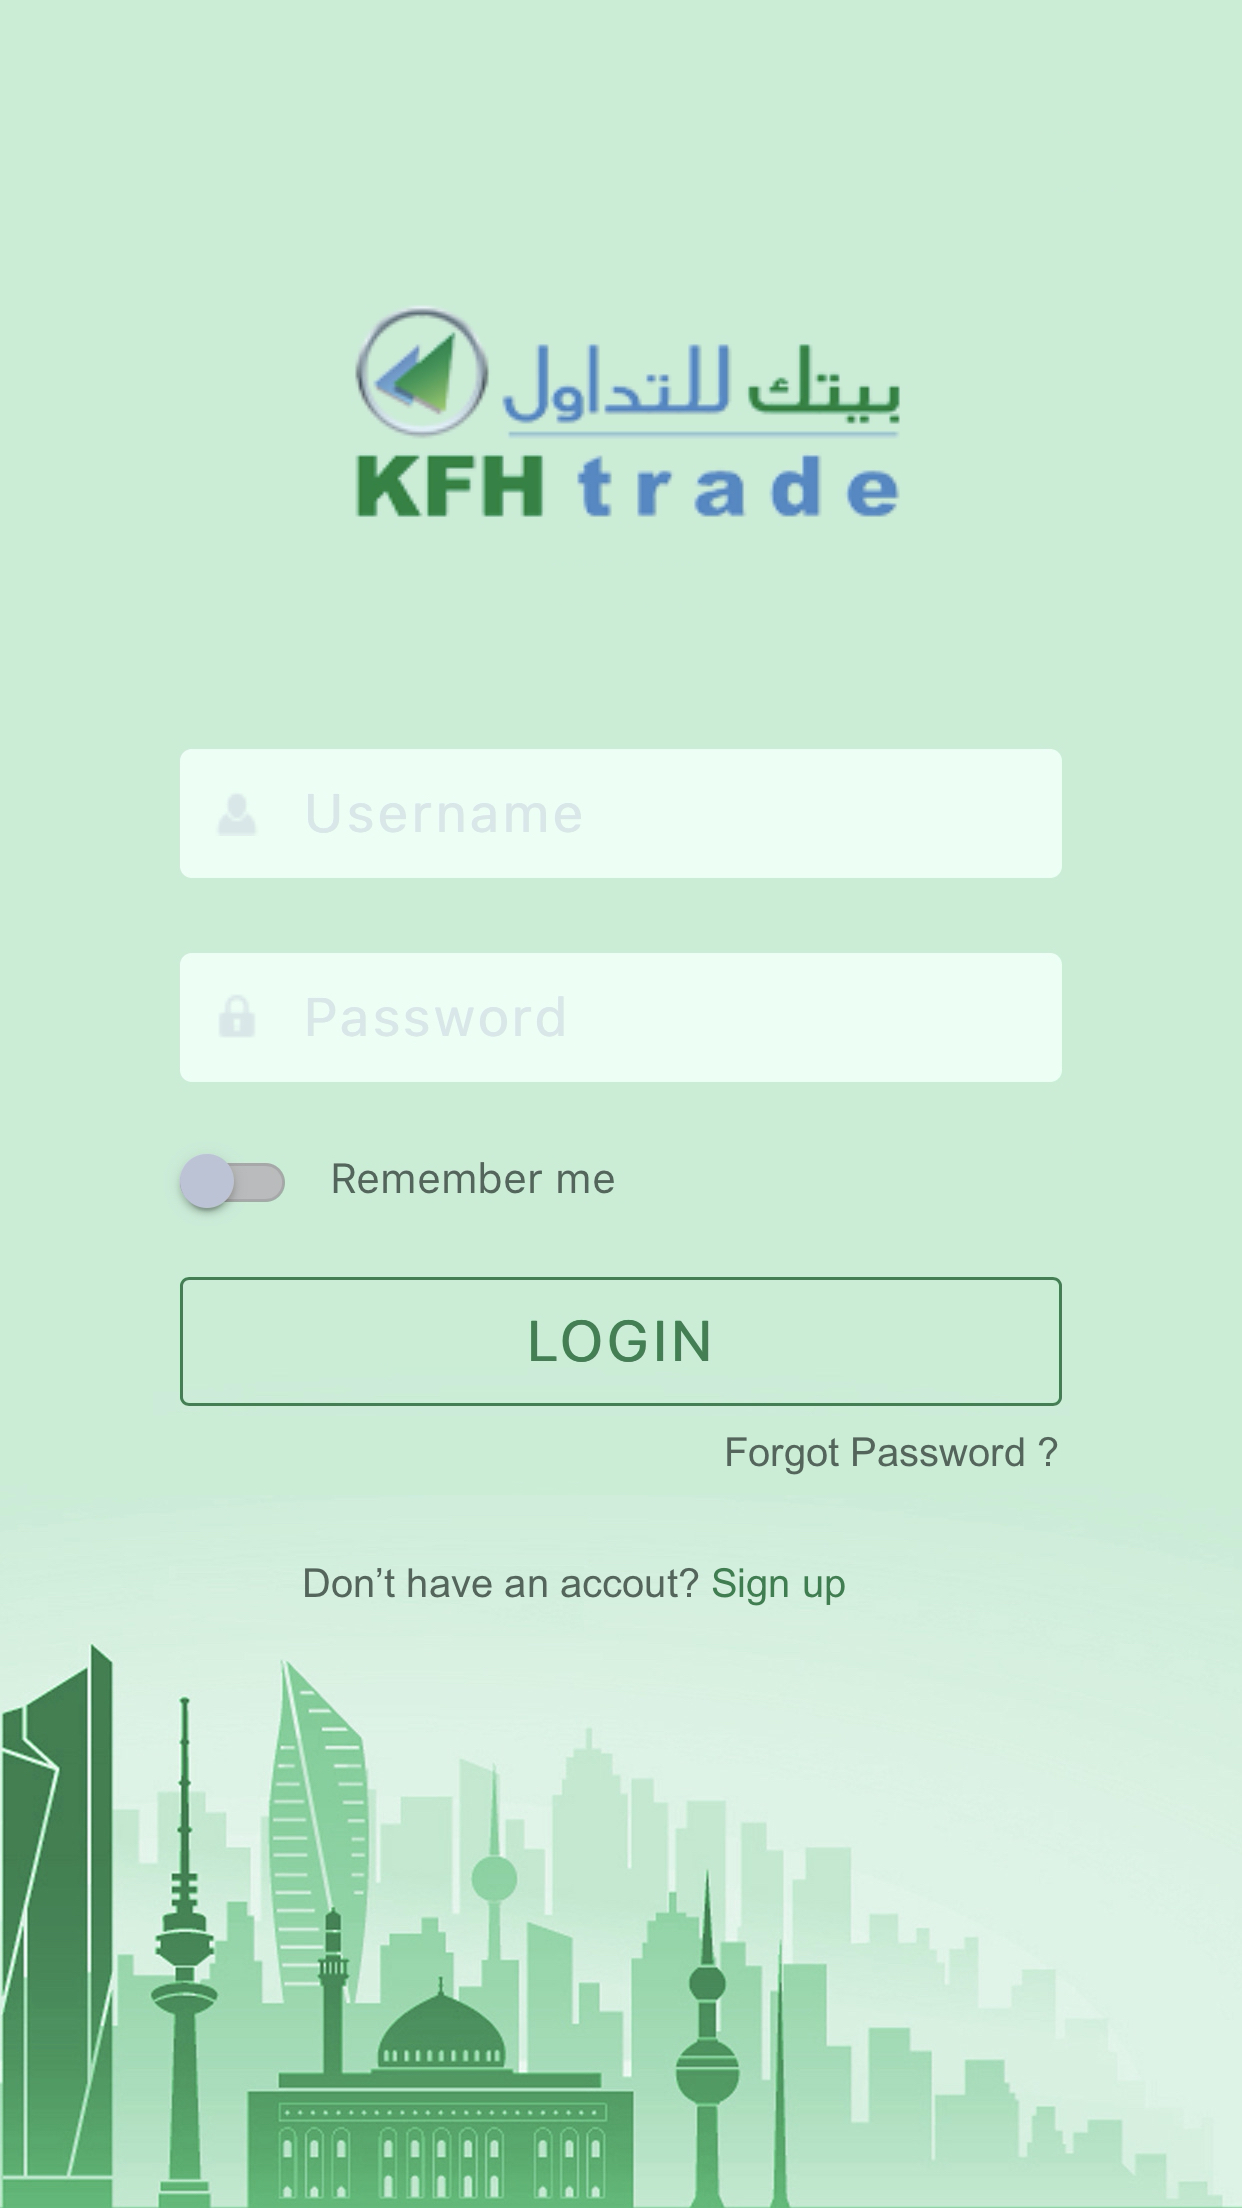BackgroundImage: (2, 2, 1242, 2208)
EditText: (180, 749, 1062, 878), (180, 952, 1062, 1081)
Icon: (218, 993, 256, 1037), (218, 793, 256, 837)
Image: (355, 309, 899, 519)
Remember: (179, 1153, 614, 1209)
Switch: (179, 1153, 285, 1209)
Text: (726, 1436, 1059, 1476), (305, 1568, 699, 1598), (306, 996, 564, 1037), (308, 795, 581, 833), (334, 1162, 614, 1193), (713, 1568, 845, 1606)
TextButton: (180, 1278, 1062, 1407)
